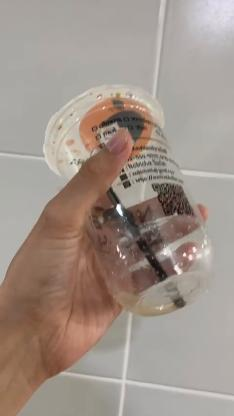Plastic Cup: (43, 84, 216, 318)
